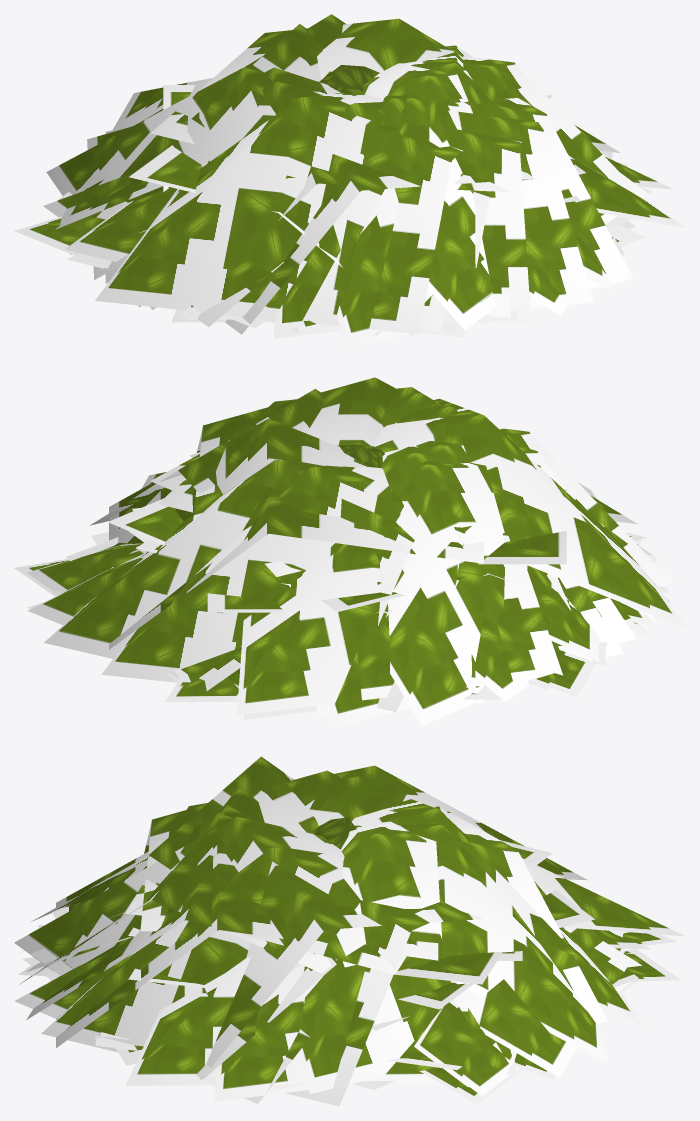
The model's file is pile-leaves2.fbx.
3 views of the same model, one above another, from view 1: azimuth 30°, elevation 25°; view 2: azimuth 150°, elevation 25°; view 3: azimuth 270°, elevation 25° (orthographic). The views are drawn at different scales.
Parts seen in each view (by area): view 1: pPlane16; view 2: pPlane16; view 3: pPlane16.
Part boxes in pixels (<box>): pPlane16: <box>14,14,685,348</box>; pPlane16: <box>14,377,685,727</box>; pPlane16: <box>14,756,685,1106</box>.
Bounding box in the file's own units: 3.89 × 1.18 × 3.9.
2 materials, 2 textured.
